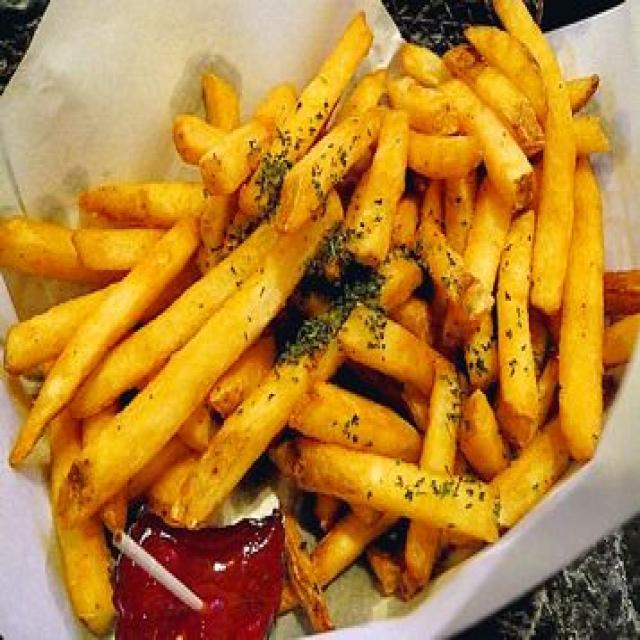French Fries: (8, 21, 628, 532)
